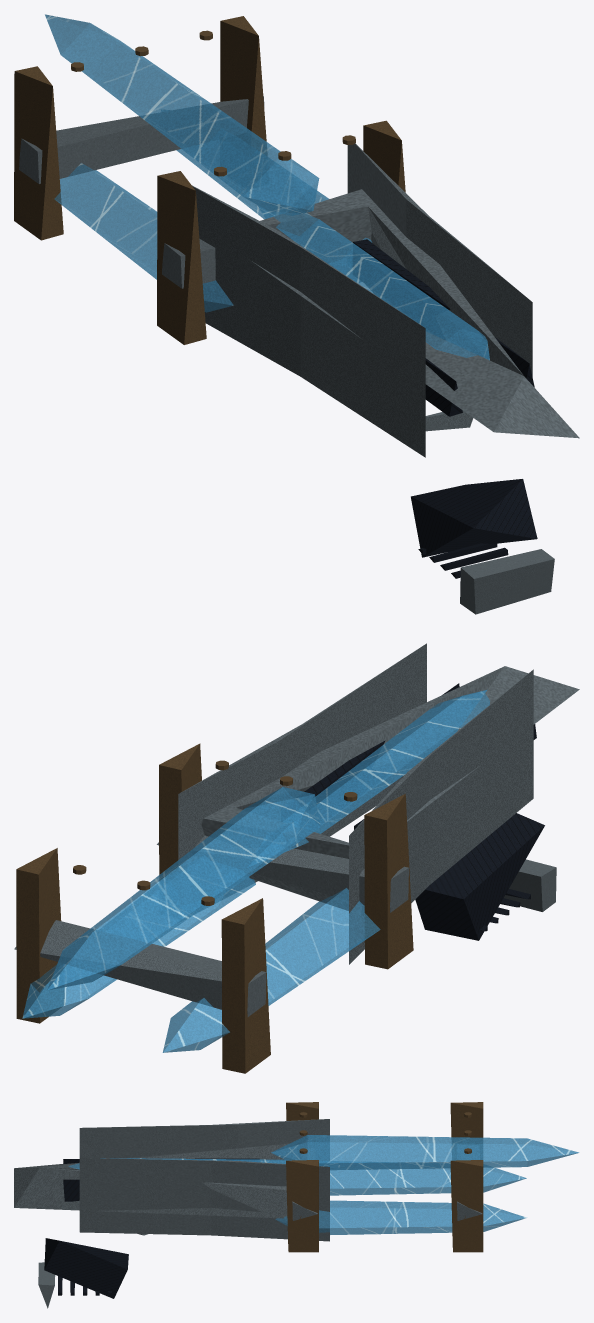
Rendered from rime-focus-ready-lod2.glb.
3 views of the same model, one above another, from view 1: azimuth 30°, elevation 25°; view 2: azimuth 150°, elevation 25°; view 3: azimuth 270°, elevation 25° (orthographic). The views are drawn at different scales.
Parts seen in each view (by area): view 1: Swept receiver fin, Sculpted open silver receiver, Independent ice cartridge, Swept receiver fin.001, Cartridge clamp bridge.001, Rear dorsal ice conduit, Angled slate pistol grip, Independent ice cartridge.001, Locking cartridge side bracket.002, Locking cartridge side bracket, Silver flared grip heel, Slate receiver spine.001 (+4 smaller); view 2: Swept receiver fin, Independent ice cartridge, Sculpted open silver receiver, Swept receiver fin.001, Independent ice cartridge.001, Cartridge clamp bridge.001, Rear dorsal ice conduit, Angled slate pistol grip, Locking cartridge side bracket, Locking cartridge side bracket.002, Locking cartridge side bracket.003, Cartridge clamp bridge (+4 smaller); view 3: Swept receiver fin.001, Independent ice cartridge, Swept receiver fin, Sculpted open silver receiver, Independent ice cartridge.002, Independent ice cartridge.001, Angled slate pistol grip, Locking cartridge side bracket.003, Locking cartridge side bracket.001, Locking cartridge side bracket.002, Locking cartridge side bracket, Rear dorsal ice conduit (+4 smaller).
Part boxes in pixels (bbox=[...]): Swept receiver fin: bbox=[192, 185, 425, 457]; Sculpted open silver receiver: bbox=[203, 189, 579, 438]; Independent ice cartridge: bbox=[45, 14, 319, 215]; Swept receiver fin.001: bbox=[347, 143, 532, 376]; Cartridge clamp bridge.001: bbox=[19, 96, 264, 183]; Rear dorsal ice conduit: bbox=[245, 185, 489, 360]; Angled slate pistol grip: bbox=[411, 479, 537, 557]; Independent ice cartridge.001: bbox=[54, 163, 233, 312]; Locking cartridge side bracket.002: bbox=[14, 66, 63, 240]; Locking cartridge side bracket: bbox=[157, 171, 206, 344]; Silver flared grip heel: bbox=[460, 549, 554, 614]; Slate receiver spine.001: bbox=[353, 239, 534, 387]; Swept receiver fin: bbox=[349, 669, 533, 964]; Independent ice cartridge: bbox=[47, 787, 320, 990]; Sculpted open silver receiver: bbox=[201, 666, 579, 915]; Swept receiver fin.001: bbox=[178, 643, 426, 911]; Independent ice cartridge.001: bbox=[162, 888, 380, 1052]; Cartridge clamp bridge.001: bbox=[14, 920, 266, 1016]; Rear dorsal ice conduit: bbox=[247, 689, 489, 867]; Angled slate pistol grip: bbox=[415, 813, 544, 940]; Locking cartridge side bracket: bbox=[364, 793, 413, 969]; Locking cartridge side bracket.002: bbox=[221, 898, 270, 1073]; Locking cartridge side bracket.003: bbox=[16, 848, 64, 1023]; Cartridge clamp bridge: bbox=[157, 835, 408, 912]; Swept receiver fin.001: bbox=[79, 1158, 329, 1241]; Independent ice cartridge: bbox=[271, 1135, 579, 1170]; Swept receiver fin: bbox=[79, 1119, 329, 1160]; Sculpted open silver receiver: bbox=[14, 1143, 300, 1218]; Independent ice cartridge.002: bbox=[275, 1200, 526, 1234]; Independent ice cartridge.001: bbox=[330, 1167, 526, 1195]; Angled slate pistol grip: bbox=[44, 1238, 128, 1298]; Locking cartridge side bracket.003: bbox=[450, 1160, 483, 1252]; Locking cartridge side bracket.001: bbox=[286, 1160, 318, 1252]; Locking cartridge side bracket.002: bbox=[450, 1102, 483, 1159]; Locking cartridge side bracket: bbox=[286, 1102, 318, 1120]; Rear dorsal ice conduit: bbox=[68, 1158, 347, 1169].
Bounding box in the file's own units: 0.235 × 0.2761 × 0.86.
Materials: 4 (4 with a texture image).
